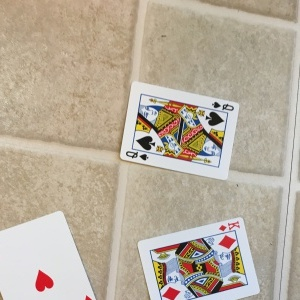card: (119, 82, 240, 182)
